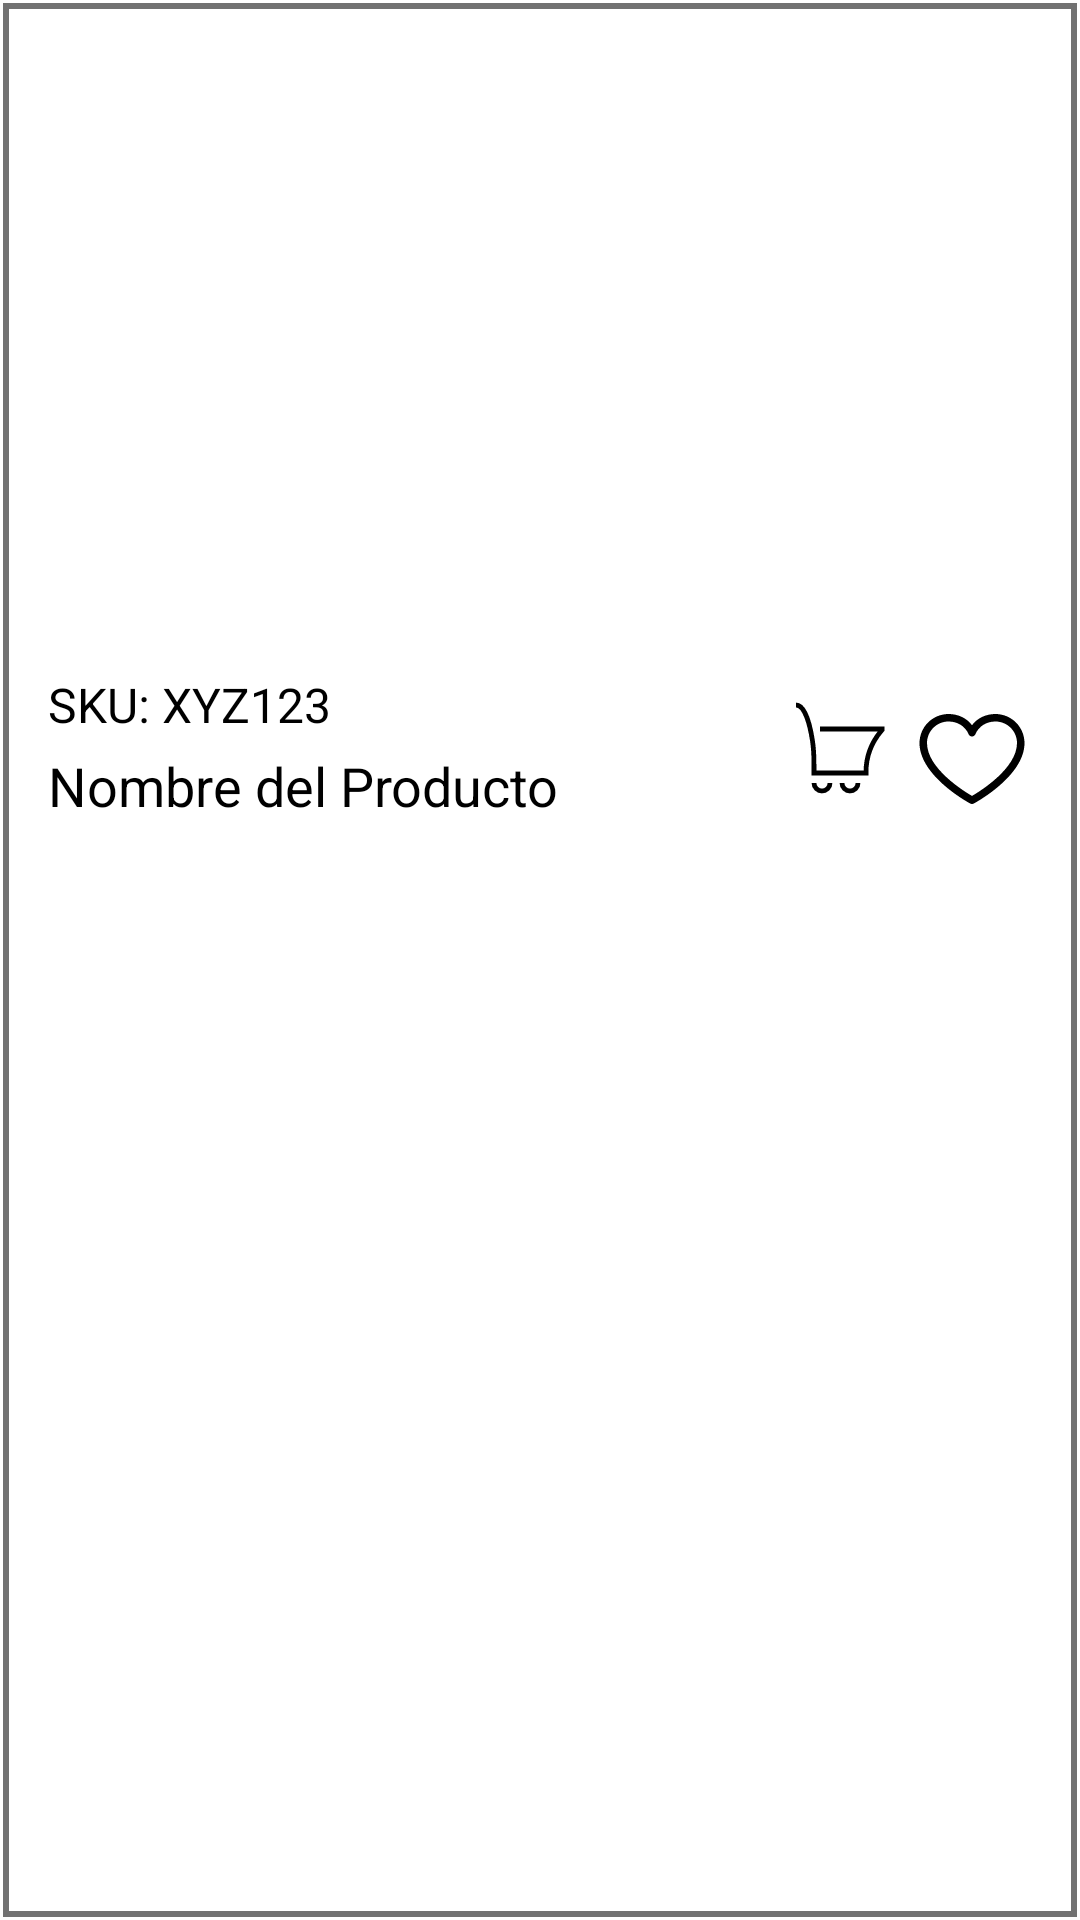

Screen size 1080x1920. Icon name, then its center in pixels as (x=x, y=y):
fav: (x=972, y=759)
